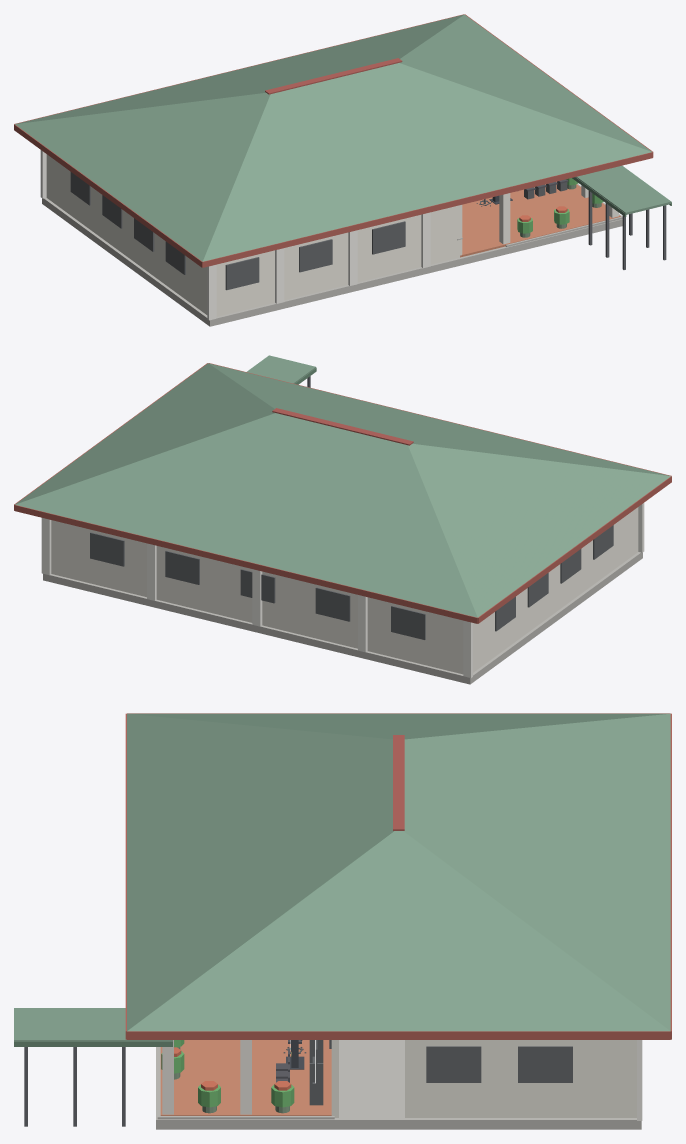
The model's file is argosino_hall.glb.
3 renders of one model, top to bottom at view 1: azimuth 30°, elevation 25°; view 2: azimuth 150°, elevation 25°; view 3: azimuth 270°, elevation 25°, orthographic. The views are drawn at different scales.
Visible parts, largest first — view 1: Argosino_Roof, Mesh_Mat_Arg_Wall, Mesh_Mat_Arg_Plinth, Mesh_Mat_Arg_Fascia, Mesh_Mat_Arg_Tile, Mesh_Mat_Arg_Frame, Mesh_Mat_Arg_Pilaster, Argosino_Connector_Roof, Mesh_Mat_Arg_Post, Mesh_Mat_Arg_Col, Argosino_RidgeCap_Main, Mesh_Mat_Arg_Leaf_Green; view 2: Argosino_Roof, Mesh_Mat_Arg_Wall, Mesh_Mat_Arg_Frame, Mesh_Mat_Arg_Plinth, Mesh_Mat_Arg_Fascia, Mesh_Mat_Arg_Pilaster, Argosino_Connector_Roof, Argosino_RidgeCap_Main; view 3: Argosino_Roof, Mesh_Mat_Arg_Wall, Mesh_Mat_Arg_Plinth, Mesh_Mat_Arg_Tile, Mesh_Mat_Arg_Fascia, Mesh_Mat_Arg_Frame, Argosino_Connector_Roof, Mesh_Mat_Arg_Col, Mesh_Mat_Arg_Leaf_Green, Argosino_RidgeCap_Main, Mesh_Mat_Arg_Post, Mesh_Mat_Arg_Walkway_Fascia.
Boxes of the visible parts, left/top/right/bottom form: Argosino_Roof: left=15, top=14, right=651, bottom=261; Mesh_Mat_Arg_Wall: left=46, top=154, right=461, bottom=316; Mesh_Mat_Arg_Plinth: left=42, top=183, right=622, bottom=326; Mesh_Mat_Arg_Fascia: left=14, top=14, right=653, bottom=267; Mesh_Mat_Arg_Tile: left=460, top=181, right=620, bottom=257; Mesh_Mat_Arg_Frame: left=70, top=172, right=567, bottom=290; Mesh_Mat_Arg_Pilaster: left=40, top=150, right=430, bottom=320; Argosino_Connector_Roof: left=576, top=165, right=671, bottom=214; Mesh_Mat_Arg_Post: left=588, top=191, right=666, bottom=269; Mesh_Mat_Arg_Col: left=460, top=185, right=618, bottom=253; Argosino_RidgeCap_Main: left=265, top=58, right=402, bottom=94; Mesh_Mat_Arg_Leaf_Green: left=517, top=178, right=603, bottom=233; Argosino_Roof: left=15, top=363, right=670, bottom=617; Mesh_Mat_Arg_Wall: left=51, top=507, right=638, bottom=674; Mesh_Mat_Arg_Frame: left=90, top=525, right=613, bottom=639; Mesh_Mat_Arg_Plinth: left=43, top=552, right=642, bottom=684; Mesh_Mat_Arg_Fascia: left=14, top=363, right=671, bottom=623; Mesh_Mat_Arg_Pilaster: left=41, top=503, right=644, bottom=677; Argosino_Connector_Roof: left=247, top=355, right=316, bottom=383; Argosino_RidgeCap_Main: left=272, top=408, right=413, bottom=445; Argosino_Roof: left=127, top=713, right=670, bottom=1031; Mesh_Mat_Arg_Wall: left=331, top=1040, right=636, bottom=1117; Mesh_Mat_Arg_Plinth: left=156, top=1040, right=641, bottom=1129; Mesh_Mat_Arg_Tile: left=160, top=1040, right=331, bottom=1115; Mesh_Mat_Arg_Fascia: left=125, top=713, right=671, bottom=1039; Mesh_Mat_Arg_Frame: left=283, top=1040, right=572, bottom=1105; Argosino_Connector_Roof: left=14, top=1008, right=172, bottom=1041; Mesh_Mat_Arg_Col: left=162, top=1040, right=251, bottom=1114; Mesh_Mat_Arg_Leaf_Green: left=161, top=1040, right=294, bottom=1107; Argosino_RidgeCap_Main: left=393, top=735, right=404, bottom=830; Mesh_Mat_Arg_Post: left=24, top=1047, right=125, bottom=1126; Mesh_Mat_Arg_Walkway_Fascia: left=14, top=1041, right=172, bottom=1046.
Size of the model in its own units: 24.68 by 7.26 by 21.54.
